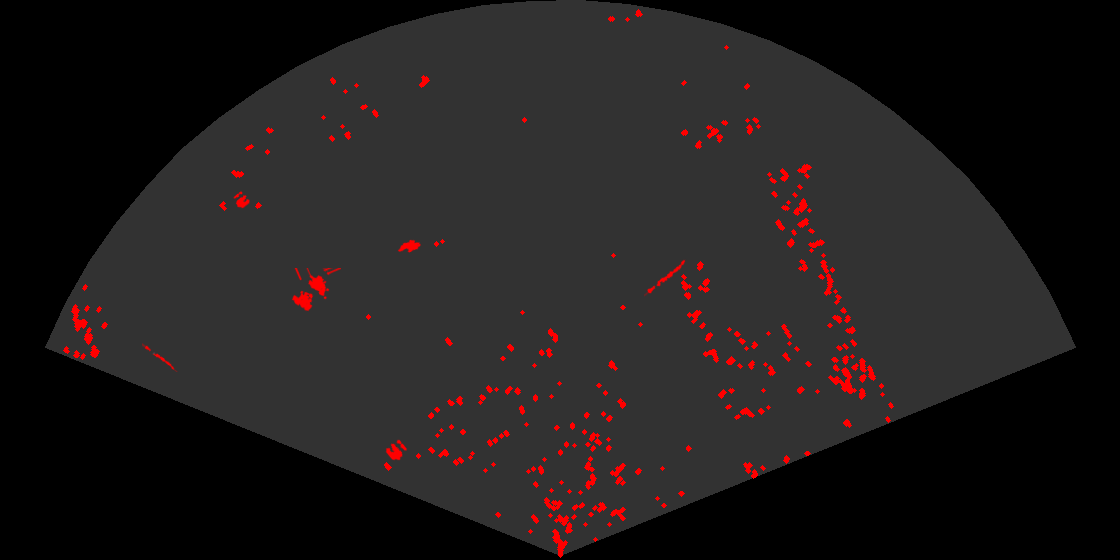AUV: (396, 238, 423, 254)
ball: (384, 438, 409, 462), (232, 190, 251, 210)
cage: (290, 268, 341, 313)
chain: (644, 258, 687, 298), (142, 342, 179, 372)
